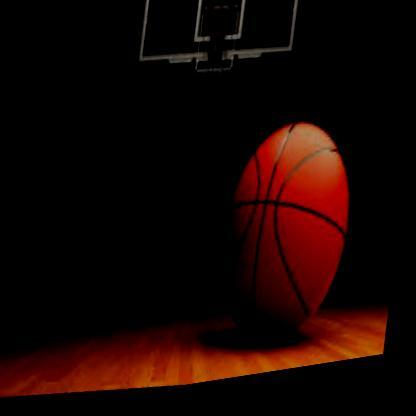basketball: (213, 117, 361, 362)
